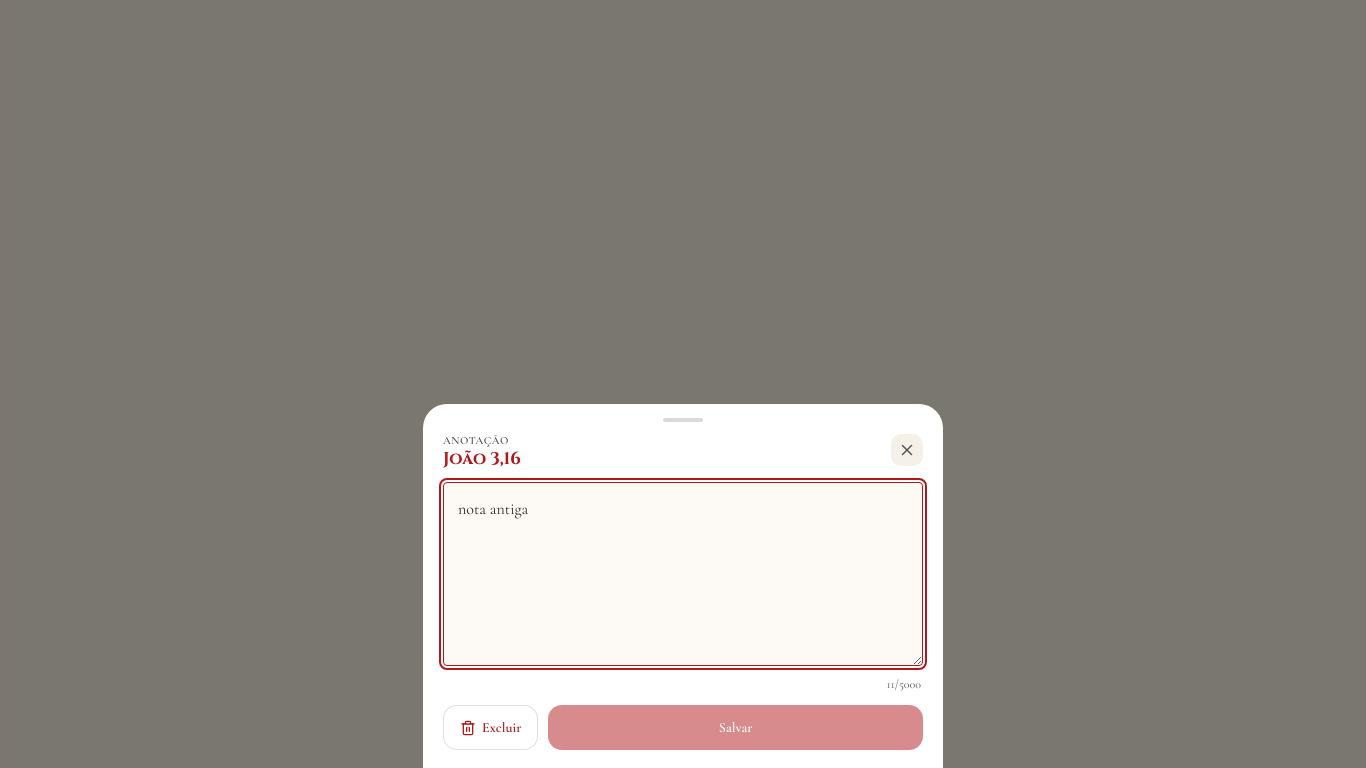
VerseNoteEditor › keeps Save disabled until the text actually changes
This screenshot has width=1366, height=768.
expect the button "Salvar" is disabled: met, box 548,705 -> 923,750
Replace the text in the text box with "nota nova" at (683, 574), box 443,482 -> 923,666
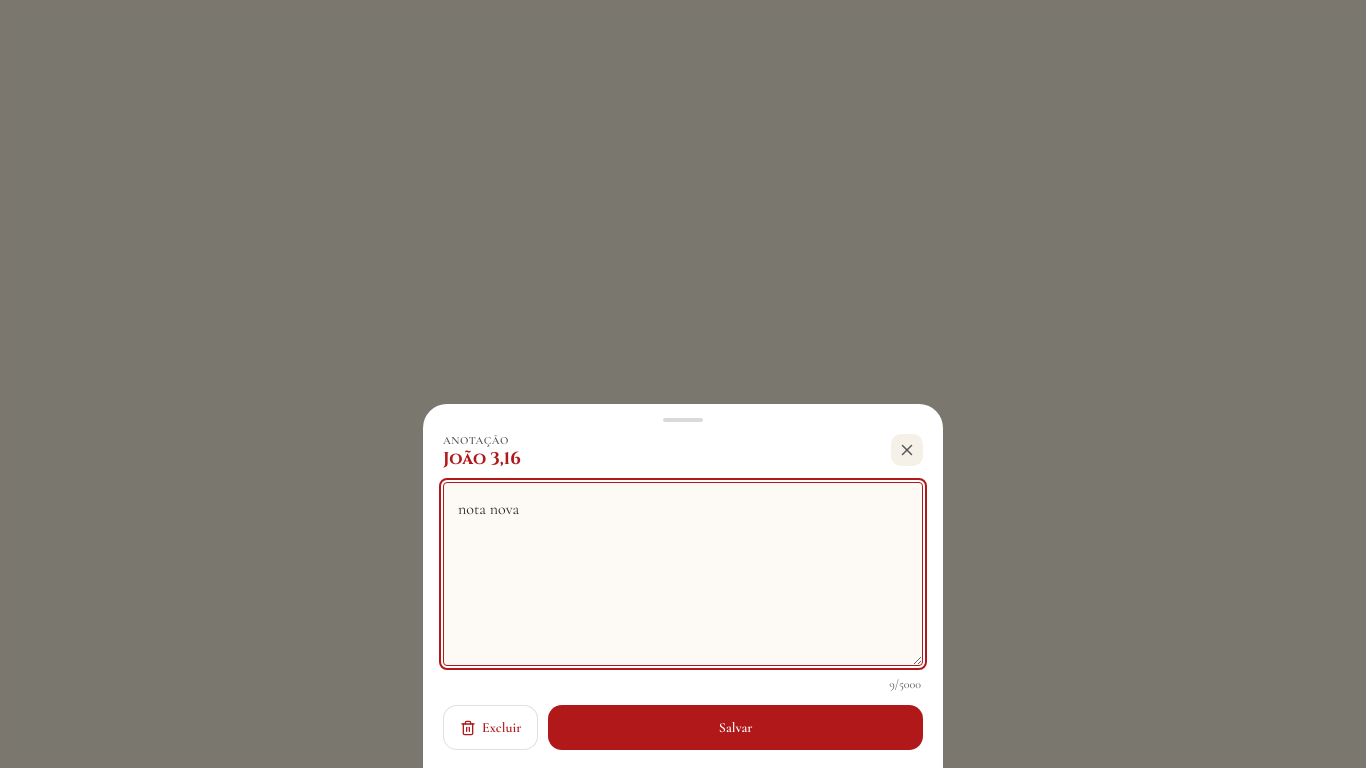
expect the button "Salvar" is enabled: met, box 548,705 -> 923,750
